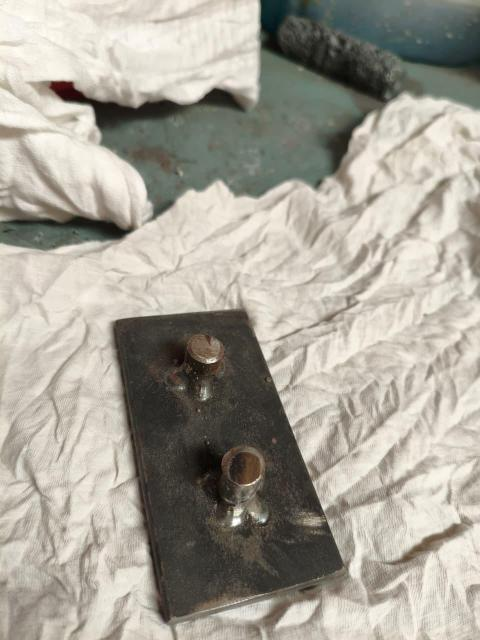Metal: (105, 303, 350, 613)
